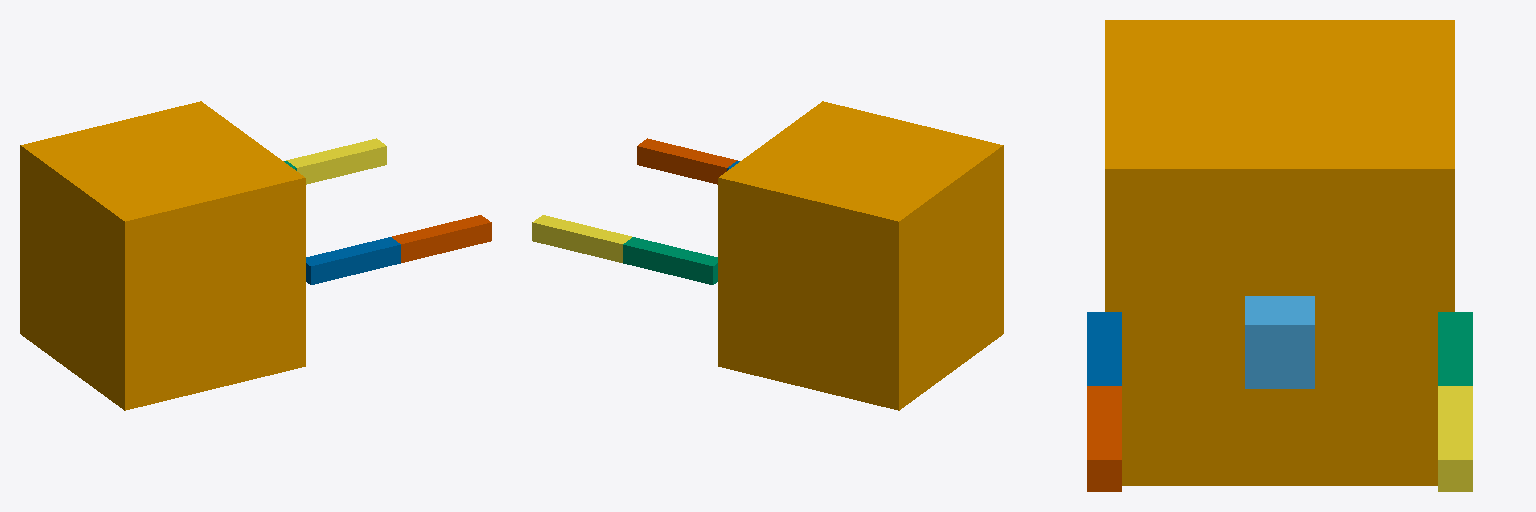
The robot description file, URDF, robot "robot":
<?xml version="1.0"?>

<robot name="robot">

    <!-- Robot's body -->
    <link name="body_link">
        <inertial>
            <origin xyz="0 0 0" rpy="0 0 0"/>
            <mass value="1"/>
            <inertia ixx="0.1" ixy="0.0" ixz="0.0" iyy="0.1" iyz="0.0" izz="0.1"/>
        </inertial>
        <visual>
            <origin xyz="0 0 0" rpy="0 0 0"/>
            <geometry>
                <box size="1 1 1"/>
            </geometry>
        </visual>
        <collision>
            <origin xyz="0 0 0" rpy="0 0 0"/>
            <geometry>
                <box size="1 1 1"/>
            </geometry>
        </collision>
    </link>
	
    <!-- Robot's nose -->
    <link name="nose_link">
        <inertial>
            <origin xyz="0 0 0" rpy="0 0 0"/>
            <mass value="1"/>
            <inertia ixx="0.1" ixy="0.0" ixz="0.0" iyy="0.1" iyz="0.0" izz="0.1"/>
        </inertial>
        <visual>
            <origin xyz="0 0 0" rpy="0 0 0"/>
            <geometry>
                <box size=".2 .2 .2"/>
            </geometry>
        </visual>
        <collision>
            <origin xyz="0 0 0" rpy="0 0 0"/>
            <geometry>
                <box size=".2 .2 .2"/>
            </geometry>
        </collision>
    </link>
	
    <!-- Joint: base, nose -->
    <joint name="body_nose_joint" type="fixed">
        <parent link="body_link"/>
        <child link="nose_link"/>
        <origin xyz=".6 0 0" rpy="0 0 0"/>
        <axis xyz="0 1 0"/>
    </joint>

    <!-- Robot's left arm -->
    <link name="left_arm_link">
        <inertial>
            <origin xyz=".25 0 0" rpy="0 0 0"/>
            <mass value="1"/>
            <inertia ixx="0.1" ixy="0.0" ixz="0.0" iyy="0.1" iyz="0.0" izz="0.1"/>
        </inertial>
        <visual>
            <origin xyz=".25 0 0" rpy="0 0 0"/>
            <geometry>
                <box size=".5 0.1 0.1"/>
            </geometry>
        </visual>
        <collision>
            <origin xyz=".25 0 0" rpy="0 0 0"/>
            <geometry>
                <box size=".5 0.1 0.1"/>
            </geometry>
        </collision>
    </link>

    <!-- Joint: base, left arm -->
    <joint name="body_left_arm_joint" type="continuous">
        <parent link="body_link"/>
        <child link="left_arm_link"/>
        <origin xyz=".5 .5 0" rpy="0 0 0"/>
        <axis xyz="0 0 1"/>
    </joint>
	
	<!-- Robot's left hand -->
	<link name="left_hand_link">
		<inertial>
			<origin xyz=".25 0 0" rpy="0 0 0"/>
			<mass value="1"/>
			<inertia ixx="0.01" ixy="0.0" ixz="0.0" iyy="0.01" iyz="0.0" izz="0.01"/>
		</inertial>
		<visual>
			<origin xyz=".25 0 0" rpy="0 0 0"/>
			<geometry>
				<box size=".5 .1 .1"/>
			</geometry>
		</visual>
		<collision>
			<origin xyz=".25 0 0" rpy="0 0 0"/>
			<geometry>
				<box size=".5 .1 .1"/>
			</geometry>
		</collision>
	</link>

	<!-- Joint: left arm, left hand -->
	<joint name="left_arm_left_hand_joint" type="continuous">
		<parent link="left_arm_link"/>
		<child link="left_hand_link"/>
		<origin xyz=".5 0 0" rpy="0 0 0"/>
		<axis xyz="0 0 1"/>
	</joint>
	
    <!-- Robot's right arm -->
    <link name="right_arm_link">
        <inertial>
            <origin xyz=".25 0 0" rpy="0 0 0"/>
            <mass value="1"/>
            <inertia ixx="0.1" ixy="0.0" ixz="0.0" iyy="0.1" iyz="0.0" izz="0.1"/>
        </inertial>
        <visual>
            <origin xyz=".25 0 0" rpy="0 0 0"/>
            <geometry>
                <box size=".5 0.1 0.1"/>
            </geometry>
        </visual>
        <collision>
            <origin xyz=".25 0 0" rpy="0 0 0"/>
            <geometry>
                <box size=".5 0.1 0.1"/>
            </geometry>
        </collision>
    </link>

    <!-- Joint: base, right arm -->
    <joint name="body_right_arm_joint" type="continuous">
        <parent link="body_link"/>
        <child link="right_arm_link"/>
        <origin xyz=".5 -.5 0" rpy="0 0 0"/>
        <axis xyz="0 0 1"/>
    </joint>
	
	<!-- Robot's right hand -->
	<link name="right_hand_link">
		<inertial>
			<origin xyz=".25 0 0" rpy="0 0 0"/>
			<mass value="1"/>
			<inertia ixx="0.01" ixy="0.0" ixz="0.0" iyy="0.01" iyz="0.0" izz="0.01"/>
		</inertial>
		<visual>
			<origin xyz=".25 0 0" rpy="0 0 0"/>
			<geometry>
				<box size=".5 .1 .1"/>
			</geometry>
		</visual>
		<collision>
			<origin xyz=".25 0 0" rpy="0 0 0"/>
			<geometry>
				<box size=".5 .1 .1"/>
			</geometry>
		</collision>
	</link>

	<!-- Joint: right arm, right hand -->
	<joint name="right_arm_right_hand_joint" type="continuous">
		<parent link="right_arm_link"/>
		<child link="right_hand_link"/>
		<origin xyz=".5 0 0" rpy="0 0 0"/>
		<axis xyz="0 0 1"/>
	</joint>

</robot>

--- What the picture shows (computed from the rendered views, not written in the file) ---
The picture shows the robot from 3 angles, left to right: view 1: azimuth 30°, elevation 25°; view 2: azimuth 150°, elevation 25°; view 3: azimuth 270°, elevation 25°; orthographic projection.
Robot: robot — 6 links, 5 joints (4 continuous, 1 fixed); root link body_link; default pose: every joint at zero.
Visible links, largest first — view 1: body_link, right_arm_link, right_hand_link, left_hand_link; view 2: body_link, left_arm_link, left_hand_link, right_hand_link; view 3: body_link, nose_link, left_hand_link, right_hand_link, left_arm_link, right_arm_link.
Boxes of the visible links, <box> form: body_link: <box>20,101,305,410</box>; right_arm_link: <box>306,237,400,284</box>; right_hand_link: <box>392,215,491,262</box>; left_hand_link: <box>286,138,386,184</box>; body_link: <box>718,101,1003,410</box>; left_arm_link: <box>623,237,717,284</box>; left_hand_link: <box>532,215,631,262</box>; right_hand_link: <box>637,138,737,184</box>; body_link: <box>1105,20,1454,485</box>; nose_link: <box>1245,296,1314,388</box>; left_hand_link: <box>1438,386,1472,491</box>; right_hand_link: <box>1087,386,1121,491</box>; left_arm_link: <box>1438,312,1472,385</box>; right_arm_link: <box>1087,312,1121,385</box>.
Bounding box of the posed robot: 2 × 1.1 × 1 m (x, y, z).
Geometry: primitives only (box / cylinder / sphere), no mesh files.
